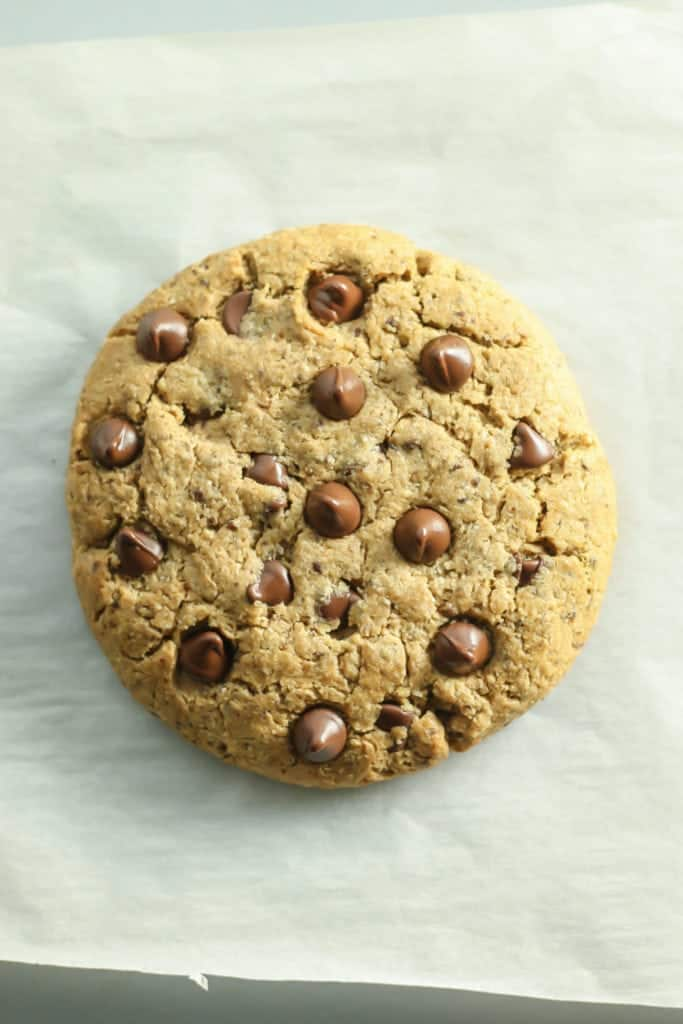cookie: (37, 214, 636, 808)
